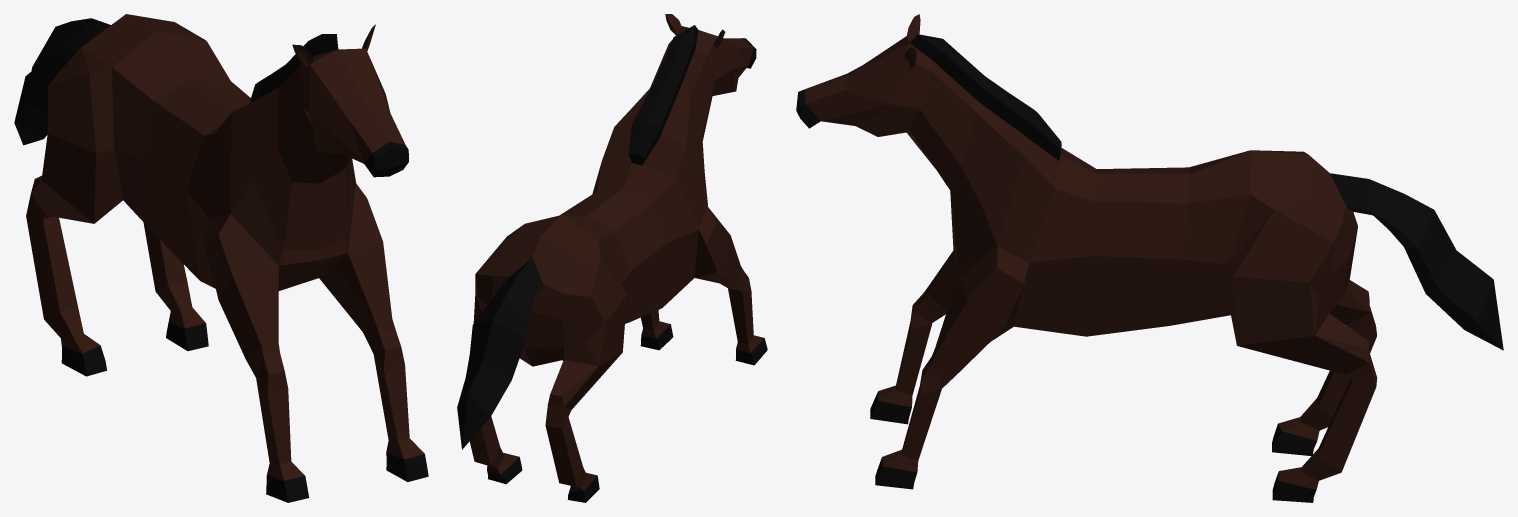
The model's file is Horse_000008.obj.
3 views of the same model, side by side, from view 1: azimuth 30°, elevation 25°; view 2: azimuth 150°, elevation 25°; view 3: azimuth 270°, elevation 25° (orthographic). The views are drawn at different scales.
Visible parts, largest first — view 1: Horse_Cylinder; view 2: Horse_Cylinder; view 3: Horse_Cylinder.
Part boxes in pixels (box(x1,y1,x2,y2)): Horse_Cylinder: box(14, 14, 428, 502); Horse_Cylinder: box(457, 14, 767, 502); Horse_Cylinder: box(796, 14, 1503, 502).
Bounding box in the file's own units: 2.55 × 6.81 × 9.83.
